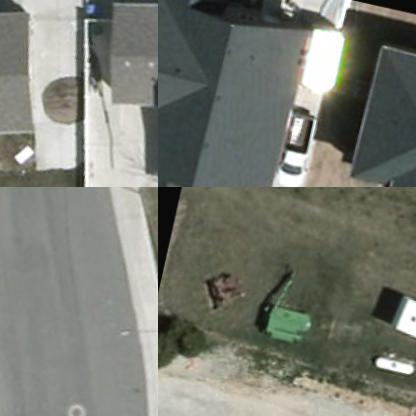camping car: (292, 19, 350, 106), (387, 298, 415, 375)
pickup: (269, 100, 319, 186)
